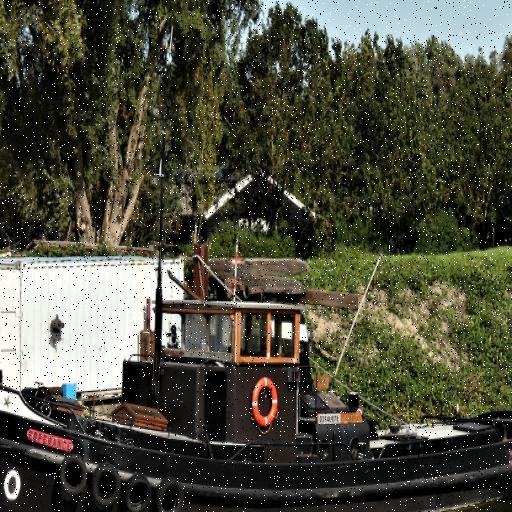tugboat: (1, 279, 512, 512)
